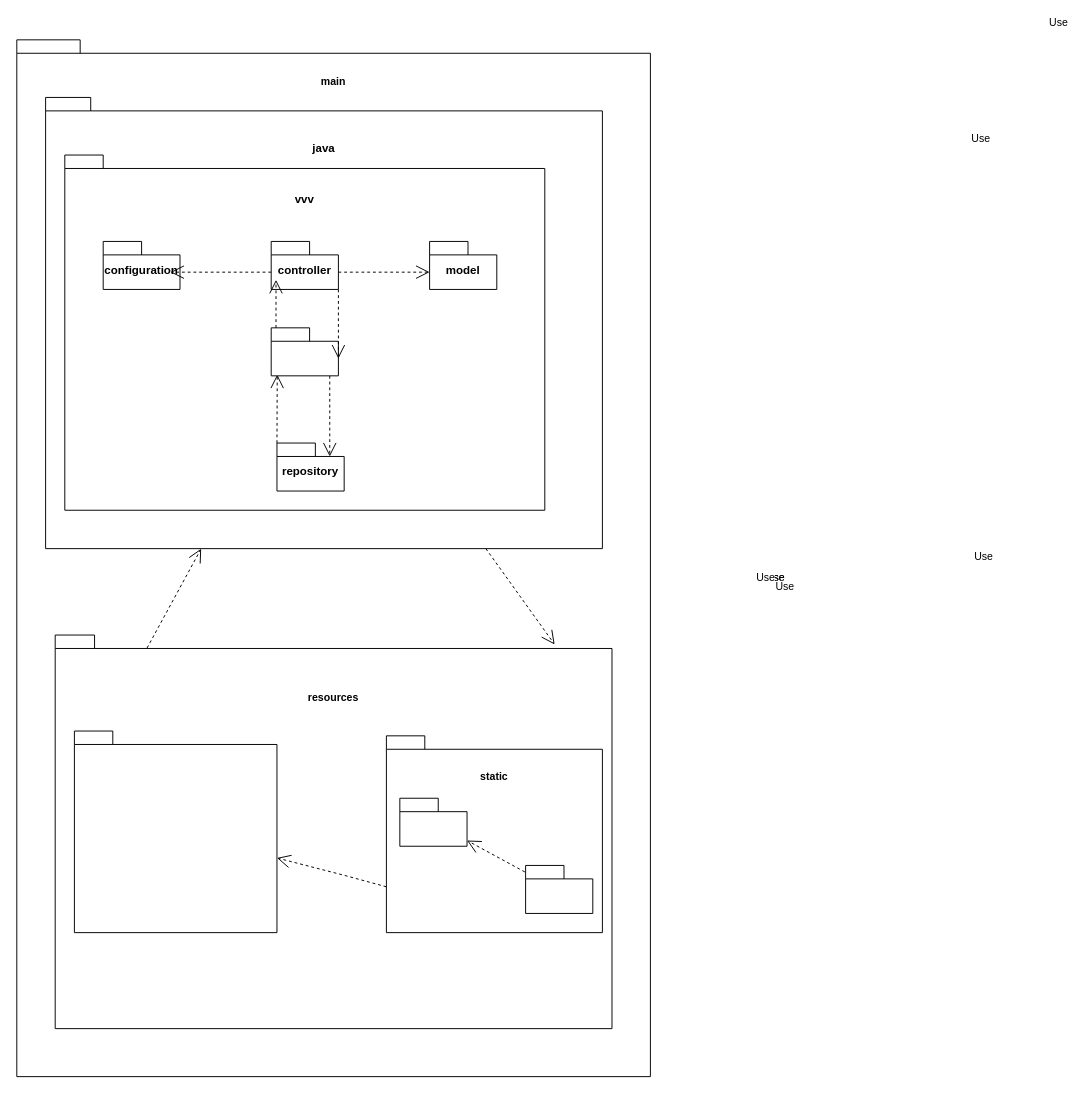
The diagram is 1085 pixels wide and 1093 high, and some of its shapes have lost their labels. Each missing label, with the centre of its shape:
"css" belongs at [433,821].
"logo" belongs at [559,888].
"service" belongs at [304,351].
"templates" belongs at [175,831].
